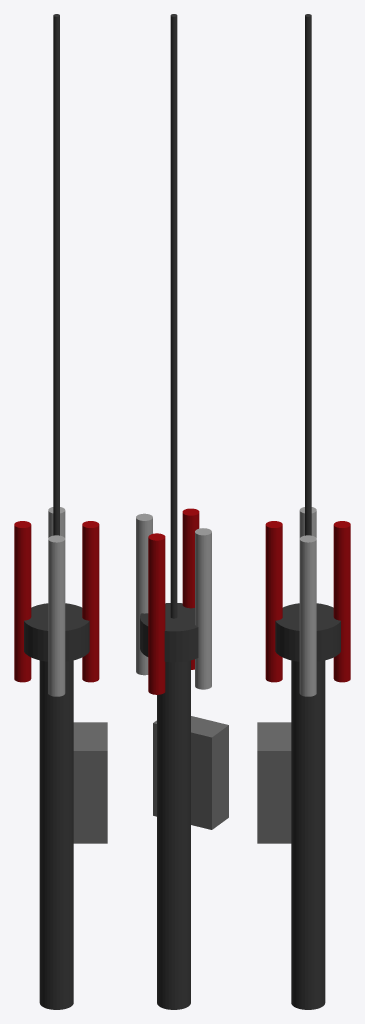
The model's file is gps_beacon.obj.
3 renders of one model, left to right at view 1: azimuth 90°, elevation 25°; view 2: azimuth 150°, elevation 25°; view 3: azimuth 270°, elevation 25°, orthographic.
Visible parts, largest first — view 1: Cylinder.001; view 2: Cylinder.001; view 3: Cylinder.001.
Boxes of the visible parts, <box> form: Cylinder.001: <box>14,14,107,1009</box>; Cylinder.001: <box>136,14,228,1009</box>; Cylinder.001: <box>257,14,350,1009</box>.
Bounding box in the file's own units: 0.25 × 3.2 × 0.275.
